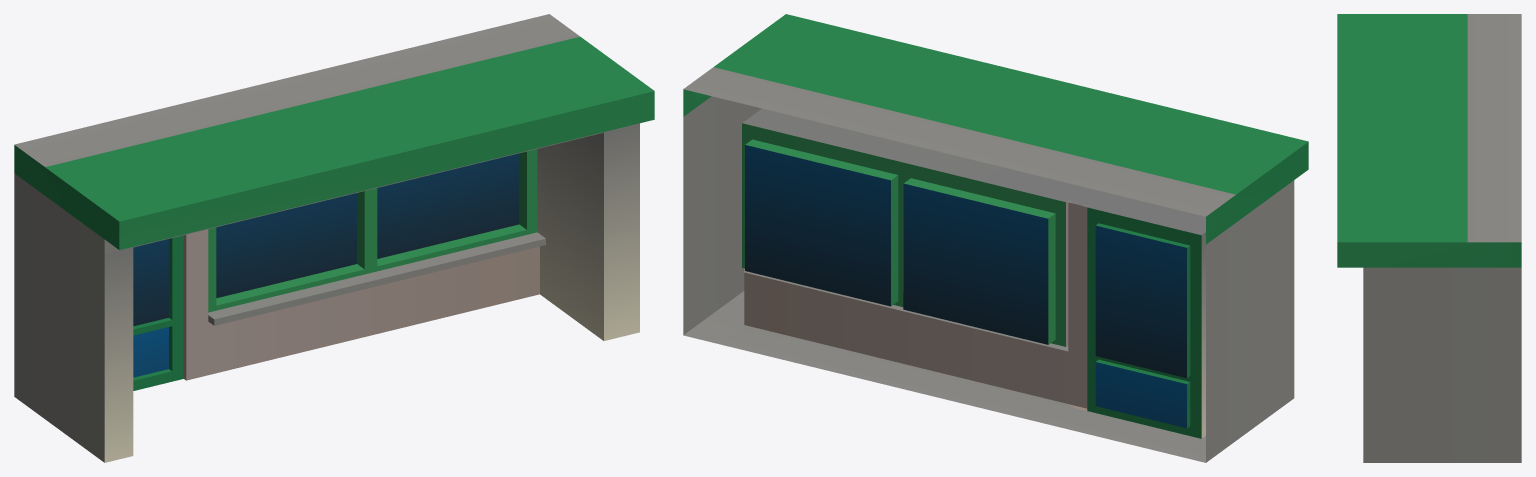
Rendered from B02_devanture_4.fbx.
3 renders of one model, left to right at view 1: azimuth 30°, elevation 25°; view 2: azimuth 150°, elevation 25°; view 3: azimuth 270°, elevation 25°, orthographic. The views are drawn at different scales.
Visible parts, largest first — view 1: B02_devanture_4; view 2: B02_devanture_4; view 3: B02_devanture_4.
Boxes of the visible parts, bbox=[...] form: B02_devanture_4: bbox=[14, 14, 654, 462]; B02_devanture_4: bbox=[683, 14, 1308, 462]; B02_devanture_4: bbox=[1337, 14, 1521, 462].
Size of the model in its own units: 1000 by 450 by 341.
